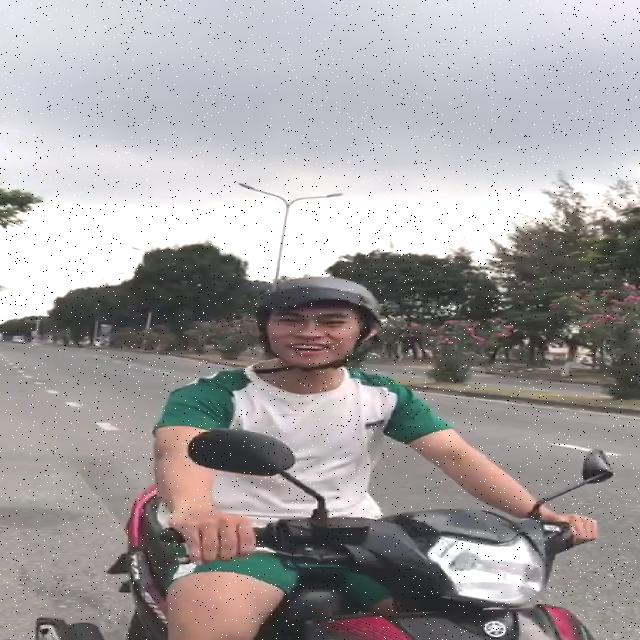helmet: (249, 271, 382, 398)
